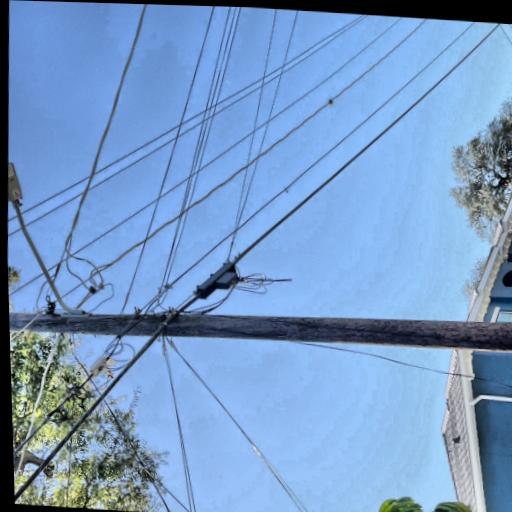pole: (54, 2, 140, 511)
street light: (83, 109, 227, 226)
